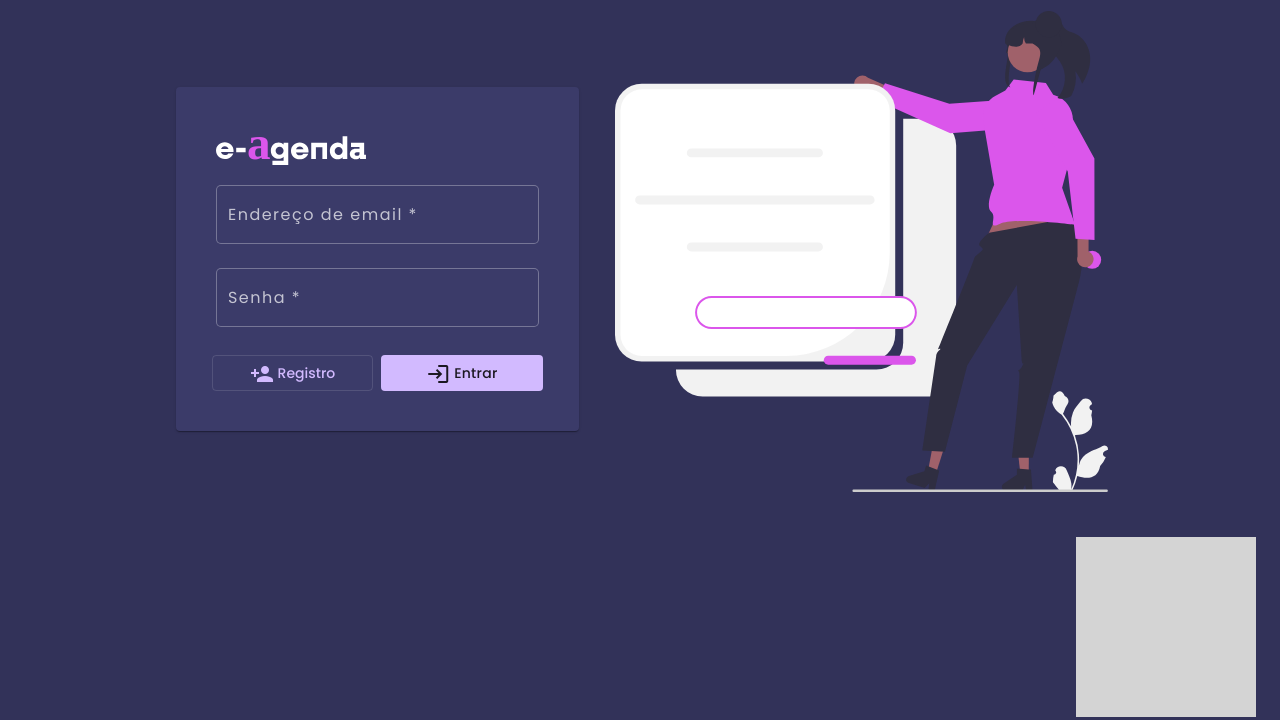
Test: Processo de Login do Usuário › Deve validar email em formato inválido
Type "teste" into the field with test id "txtEmail" at (378, 219), box [228,210,527,228]
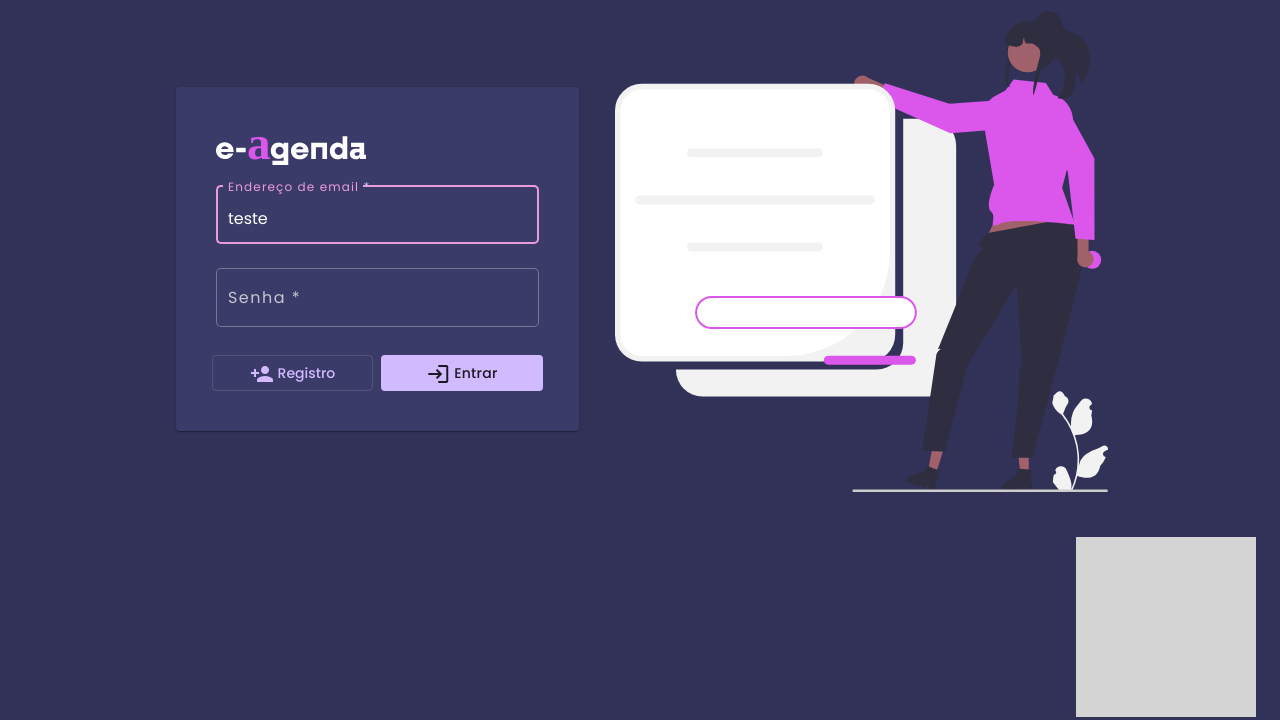
Focus the password field with test id "txtSenha" at (378, 302), box [228,293,527,311]
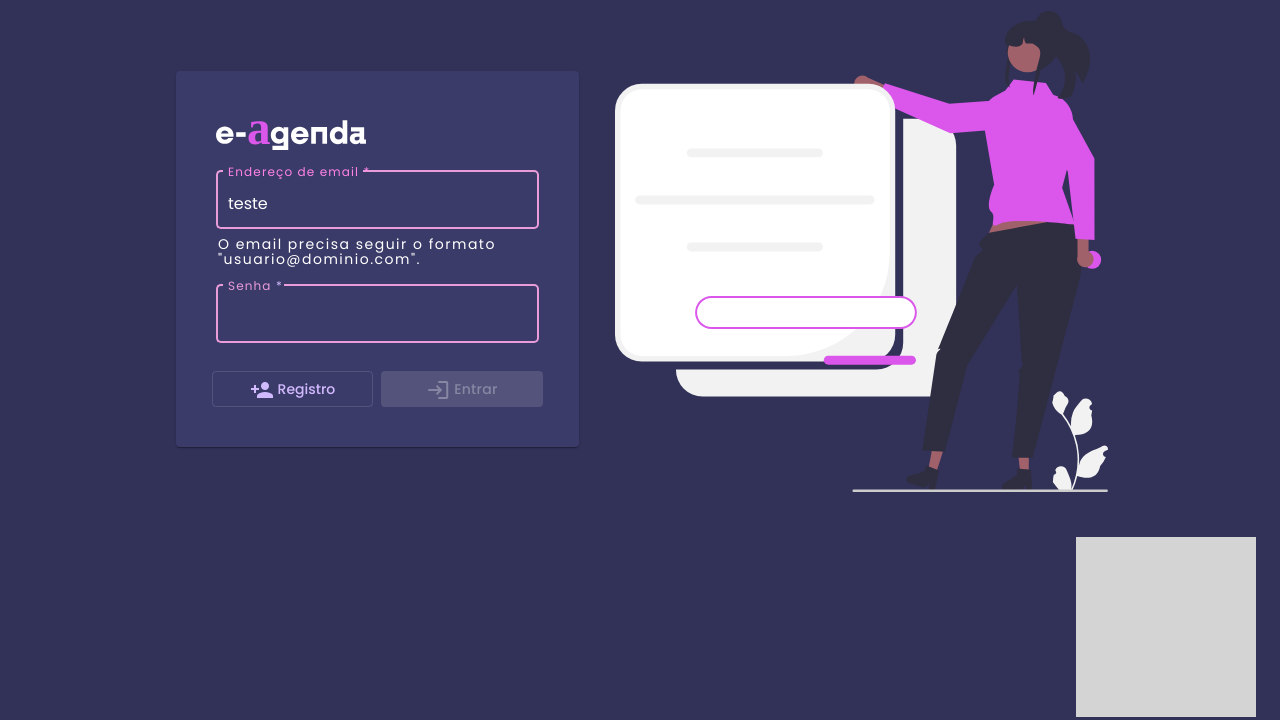
Result: the text "O email precisa seguir o formato \"usuario@dominio.com\"." is shown at [218,237,496,268]
